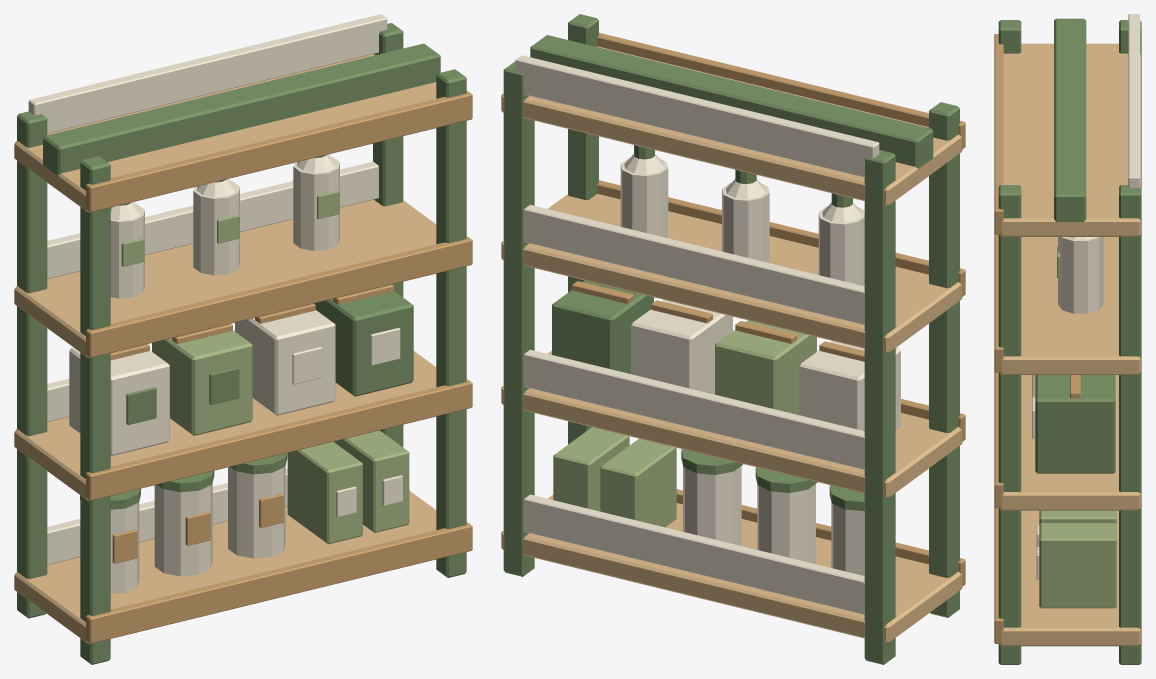
File: milk_tea_shelf.fbx
3 renders of one model, left to right at view 1: azimuth 30°, elevation 25°; view 2: azimuth 150°, elevation 25°; view 3: azimuth 270°, elevation 25°, orthographic. The views are drawn at different scales.
Visible parts, largest first — view 1: SM_MilkTea_Shelf; view 2: SM_MilkTea_Shelf; view 3: SM_MilkTea_Shelf.
Boxes of the visible parts, <box> form: SM_MilkTea_Shelf: <box>14,14,472,664</box>; SM_MilkTea_Shelf: <box>501,14,965,664</box>; SM_MilkTea_Shelf: <box>994,14,1141,664</box>.
Size of the model in its own units: 1.57 by 2 by 0.551.
